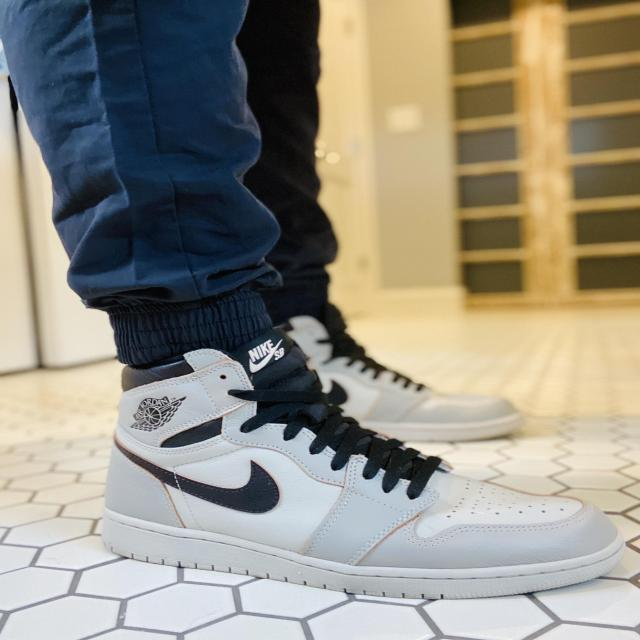shoe: (96, 323, 631, 603), (246, 308, 555, 457)
